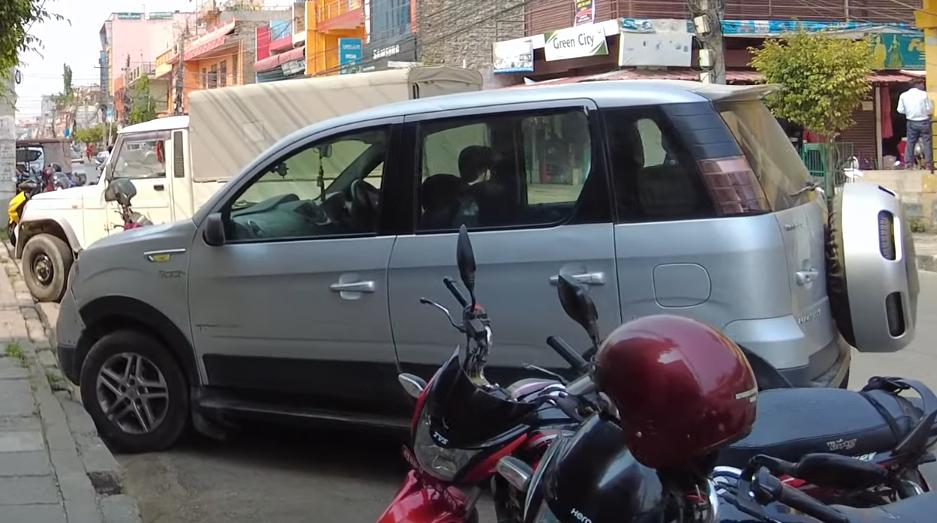SUV: (45, 70, 937, 472)
transport_vehicle: (13, 59, 482, 296)
